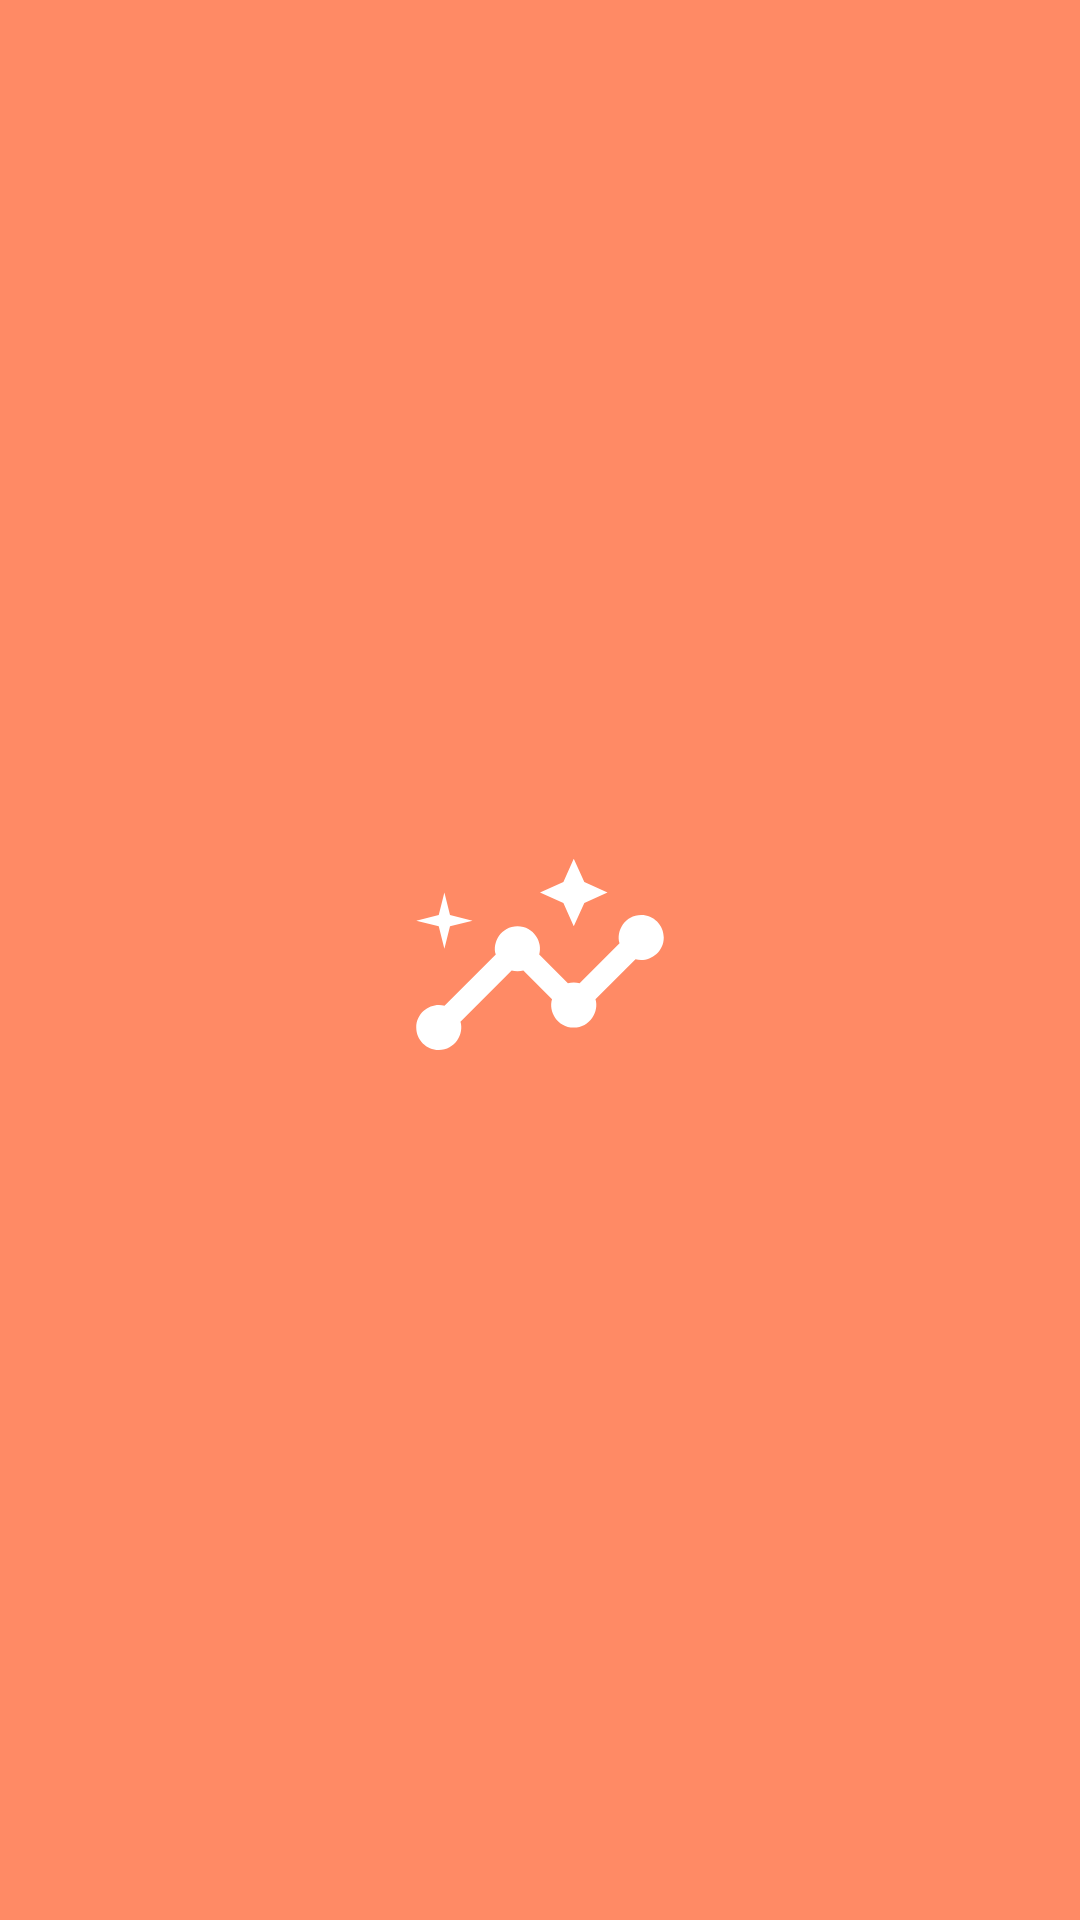

Named icons in this screenshot (1080x1920) and their centers, (x=x, y=y):
insights: (x=540, y=954)
